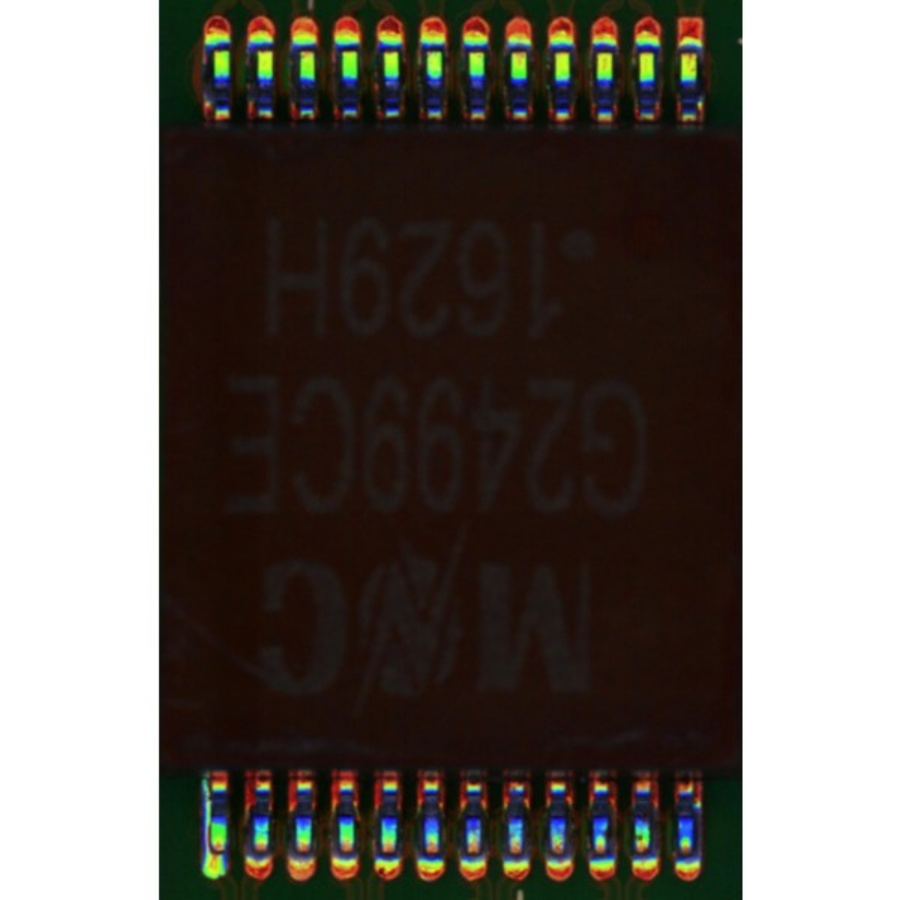Bad_podu: (205, 844, 223, 862)
Bad_qiaojiao: (202, 780, 211, 845)
